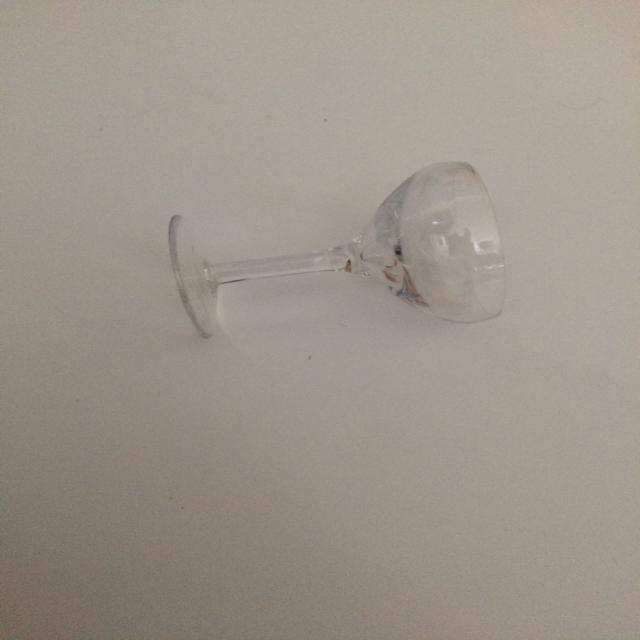glass: (166, 160, 507, 338)
